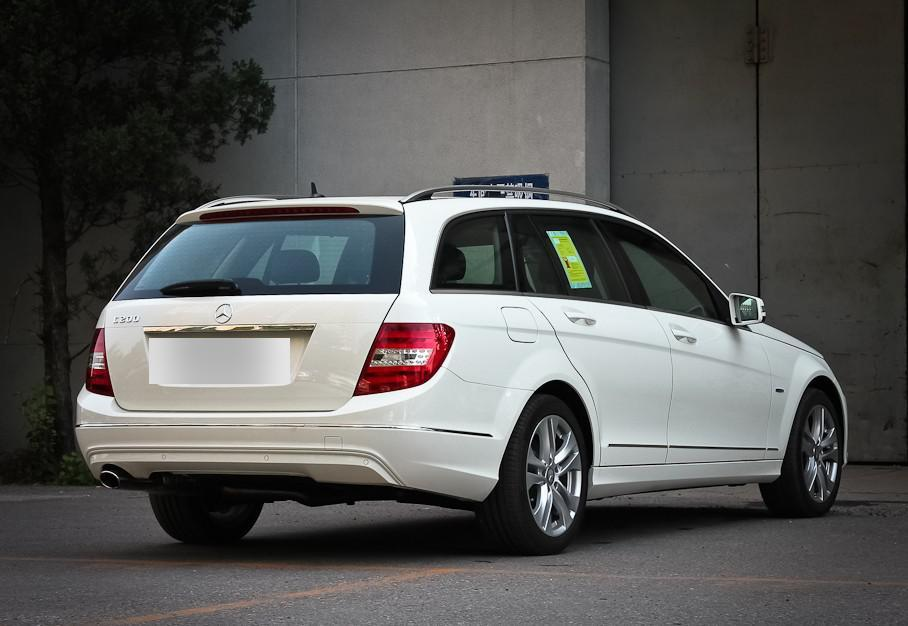Wagon: (72, 181, 849, 557)
